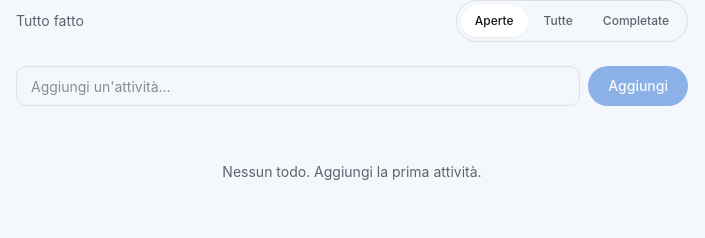
Scenario: TodoView › aggiunge un todo dall'input
This screenshot has width=705, height=238.
In the field named "Nuovo todo": (298, 86) [16,66,580,106], type "Scrivere report"
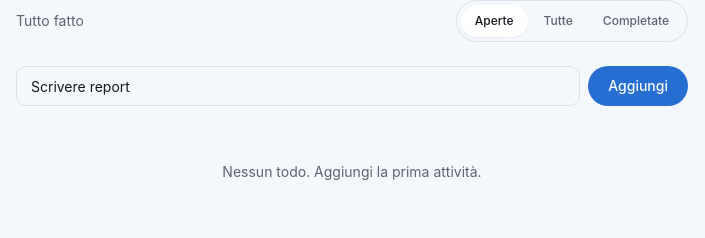
Click the button "Aggiungi": click(638, 86) [588,66,688,106]
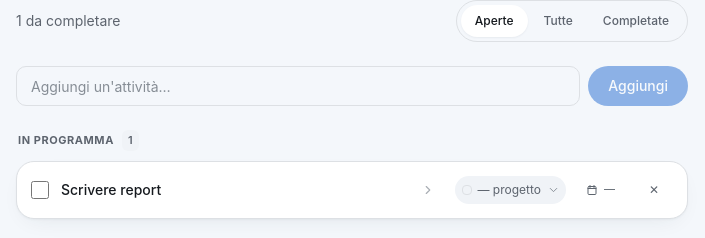
Now the text "Scrivere report" is shown, box [61,180,161,198]
Now the field named "Nuovo todo" is empty, box [16,66,580,106]
